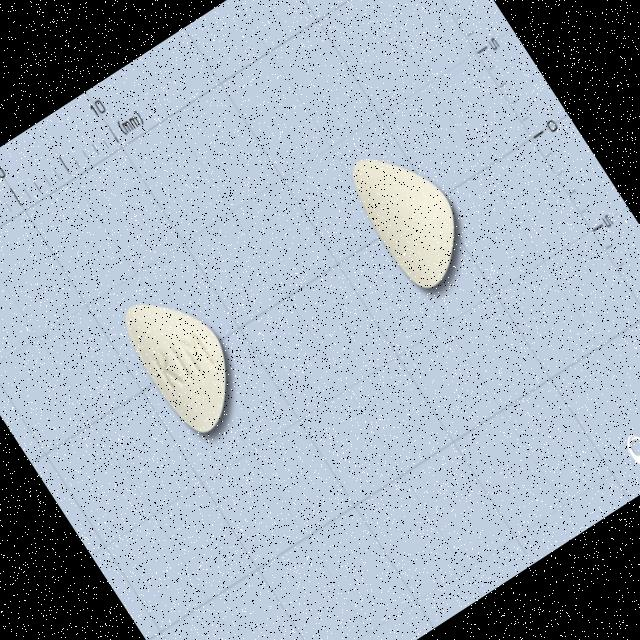Kimara: (337, 130, 486, 299), (112, 274, 259, 442)
